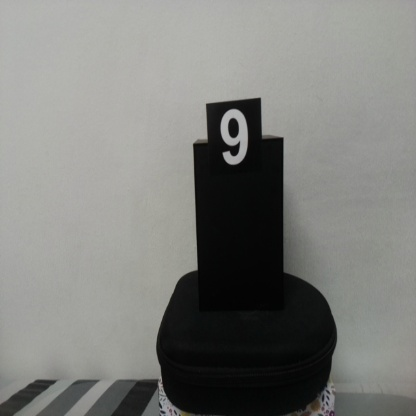id_9: (207, 102, 262, 177)
